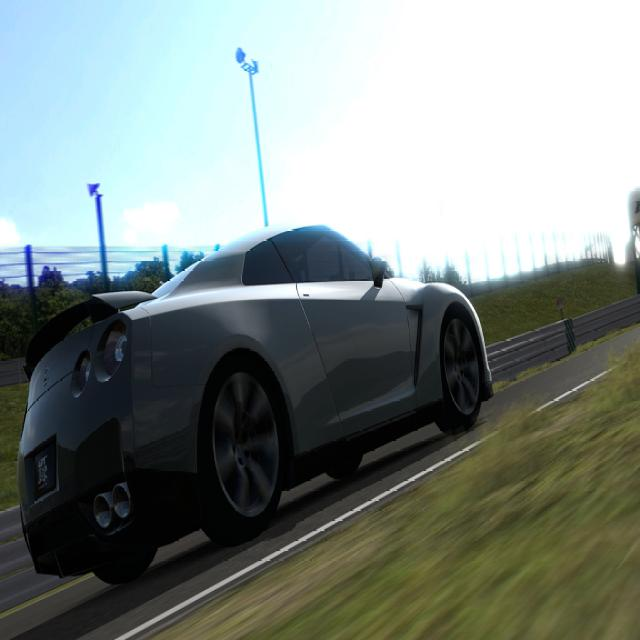car: (15, 220, 493, 584)
